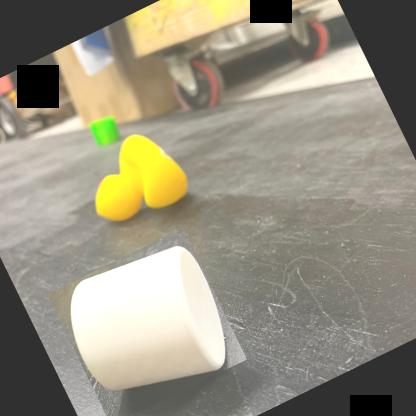white cylinder: (47, 228, 247, 416)
